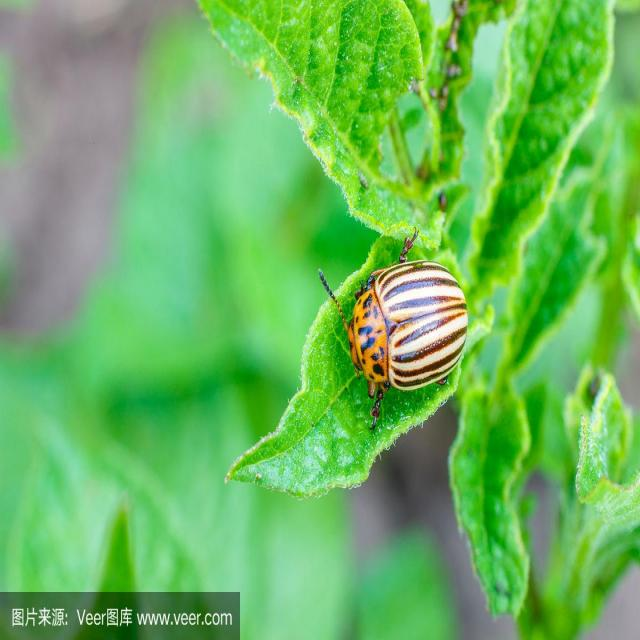ShuCaiHuaBanChong-Grown-: (321, 245, 490, 413)
